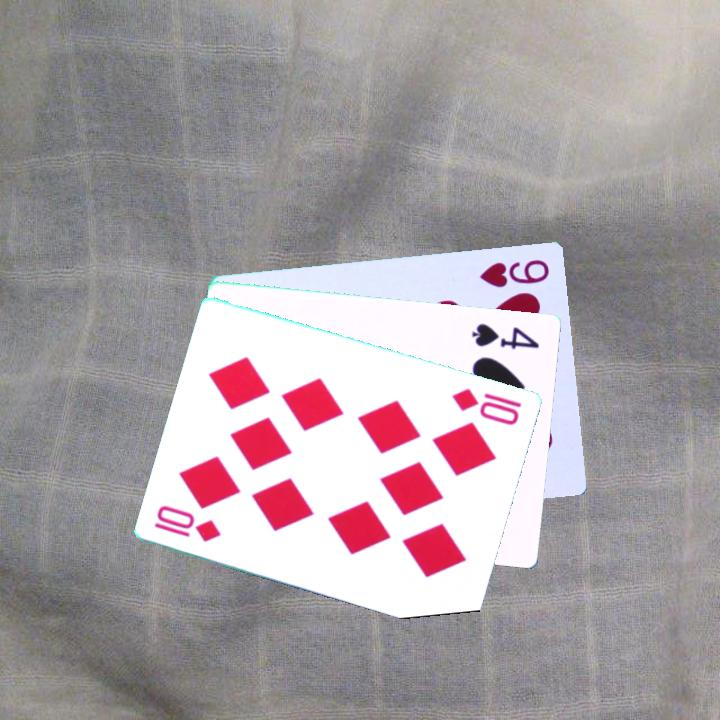10d: (449, 384, 525, 428), (151, 502, 225, 545)
4s: (469, 319, 542, 352)
9h: (477, 255, 553, 290)
